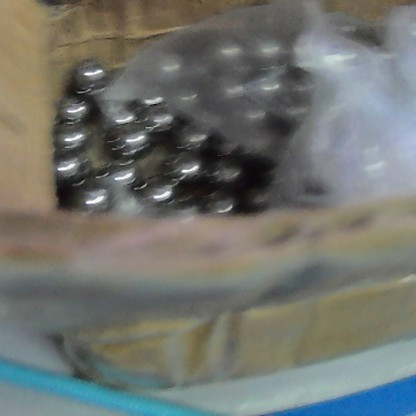ironball: (70, 180, 113, 219), (135, 166, 170, 208), (70, 59, 114, 92), (113, 120, 154, 154), (45, 89, 90, 118), (50, 147, 85, 181), (102, 159, 139, 188), (169, 150, 201, 181), (55, 123, 88, 148)
